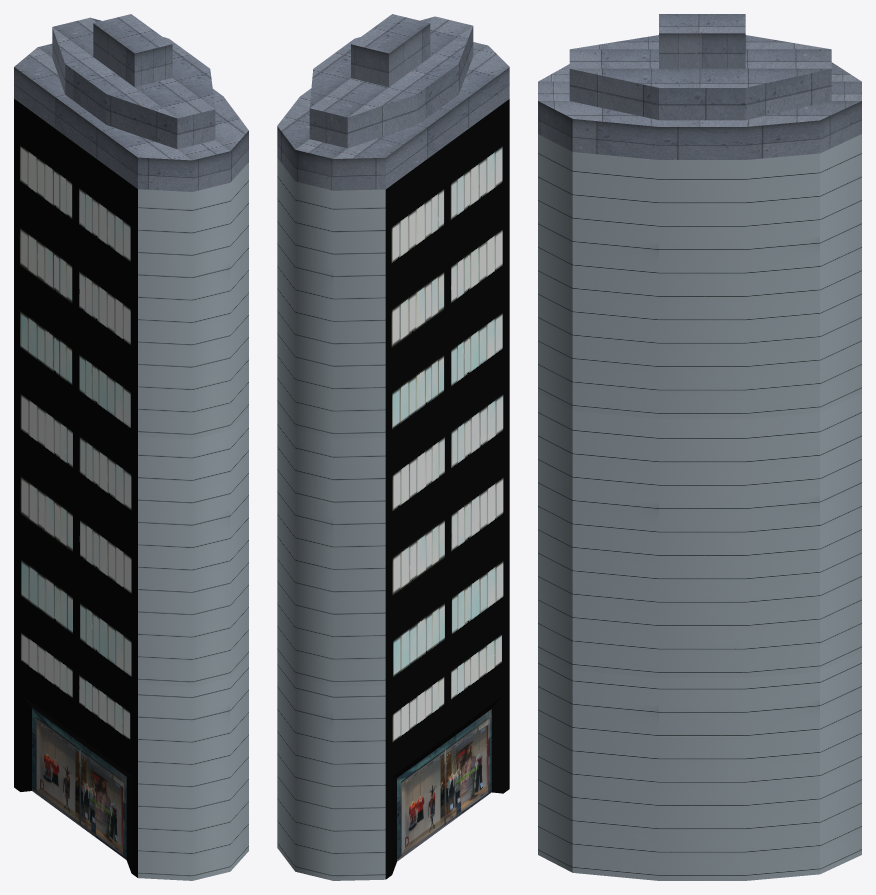
File: skyscraper6.FBX
The picture shows the model from 3 angles, left to right: view 1: azimuth 30°, elevation 25°; view 2: azimuth 150°, elevation 25°; view 3: azimuth 270°, elevation 25°; orthographic projection. The views are drawn at different scales.
Visible parts, largest first — view 1: Box001; view 2: Box001; view 3: Box001.
Boxes of the visible parts, x1,y1,x2,y2 form: Box001: (14, 14, 248, 880); Box001: (277, 14, 509, 880); Box001: (538, 14, 861, 880).
Size of the model in its own units: 111 by 658 by 235.
